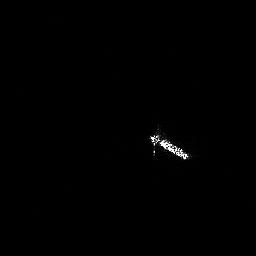ship: (146, 128, 194, 164)
